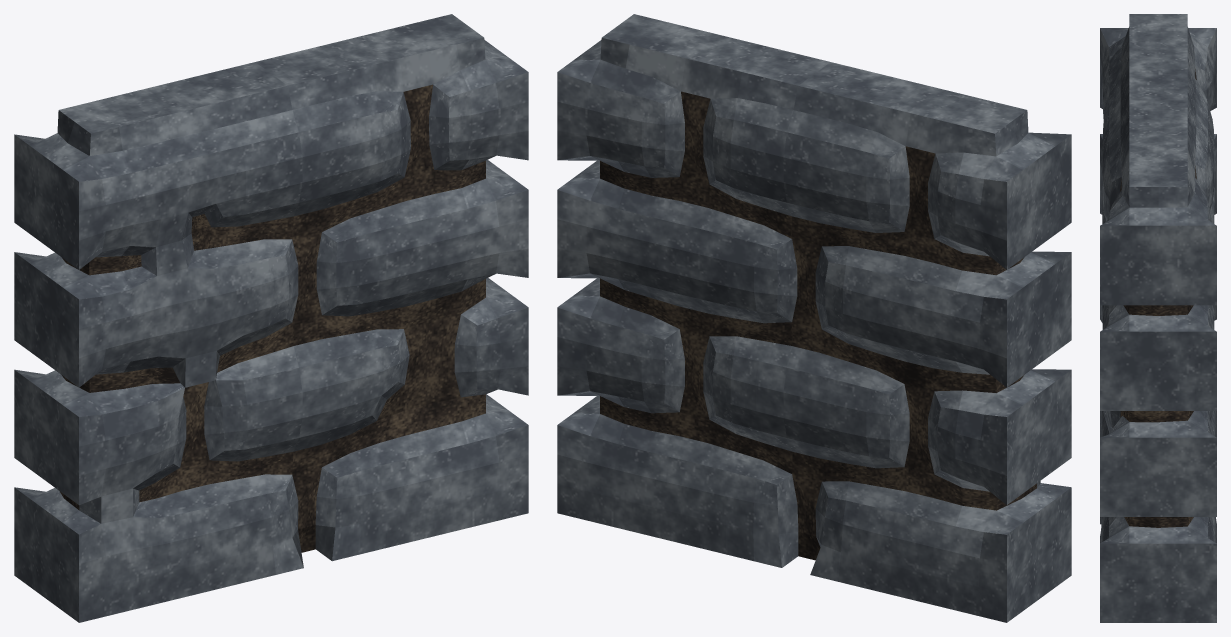
File: wall_cracked.glb
The picture shows the model from 3 angles, left to right: view 1: azimuth 30°, elevation 25°; view 2: azimuth 150°, elevation 25°; view 3: azimuth 270°, elevation 25°; orthographic projection. The views are drawn at different scales.
Visible parts, largest first — view 1: crypt_wall_cracked; view 2: crypt_wall_cracked; view 3: crypt_wall_cracked.
Part boxes in pixels (box(x1,y1,x2,y2)): crypt_wall_cracked: box(14, 14, 528, 622); crypt_wall_cracked: box(557, 14, 1071, 622); crypt_wall_cracked: box(1100, 14, 1216, 622).
Size of the model in its own units: 1 by 1 by 0.25.
1 material, 1 textured.
